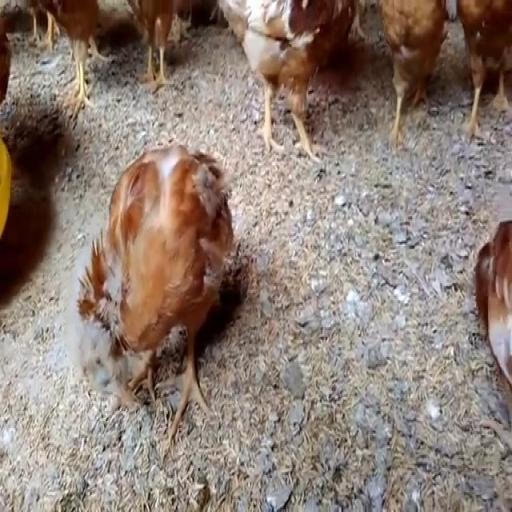disease: (77, 333, 131, 420)
